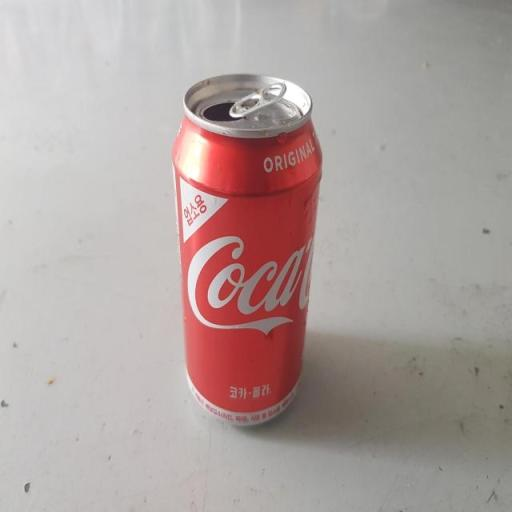metal: (150, 56, 382, 466)
